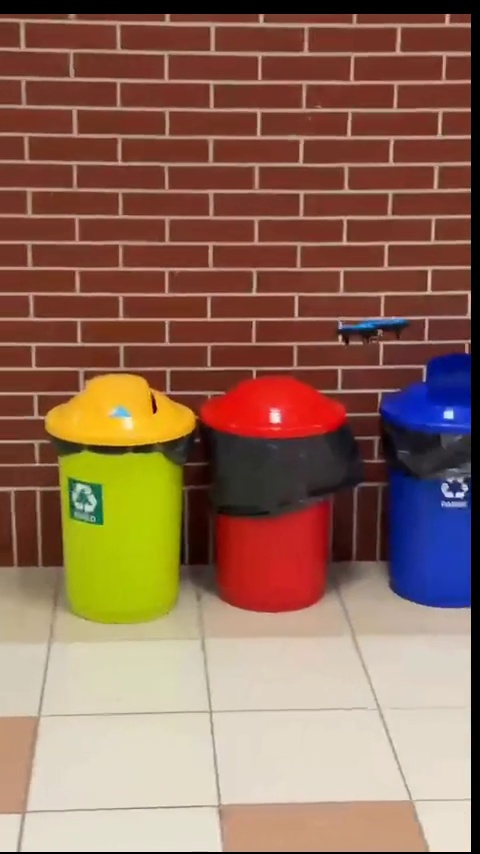drone: (336, 317, 413, 347)
